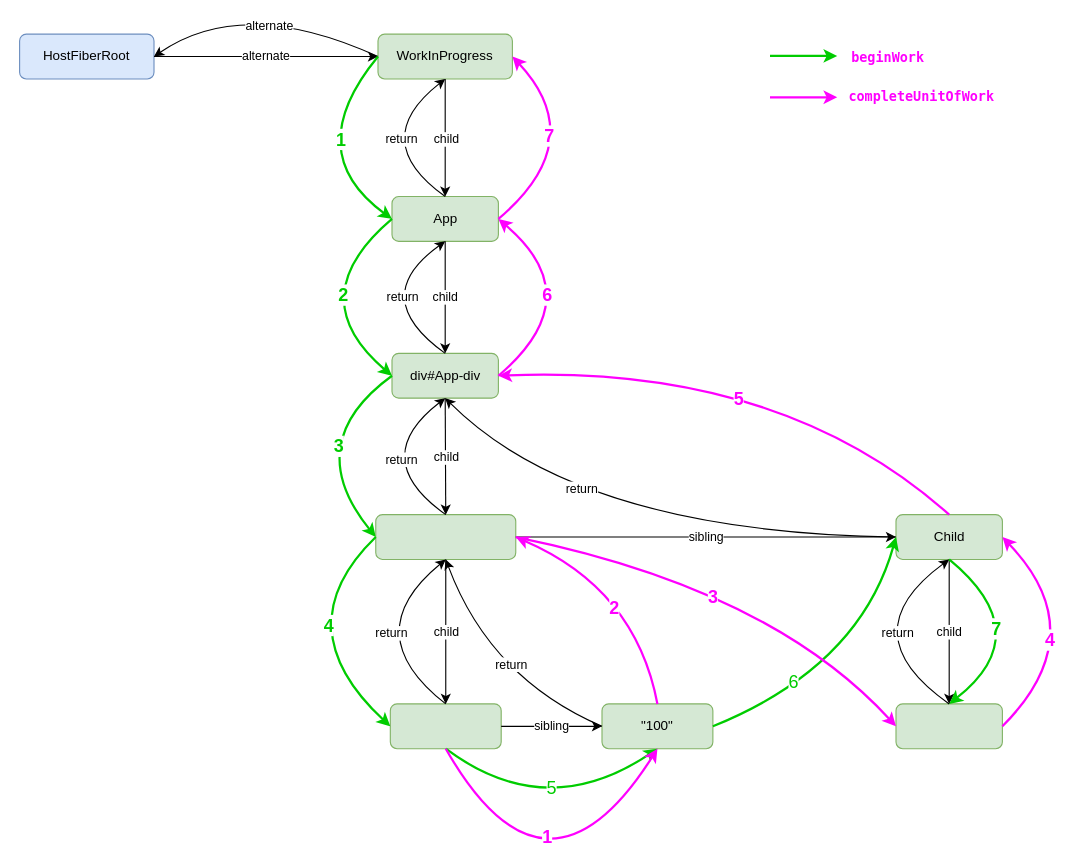
Image size: 1074x868. Some labels were removed from this diagram. Each missing label, with the box of its shape:
"数量": (389, 703, 501, 749)
div#Child-div: (895, 703, 1002, 749)
span#App-div-span: (375, 514, 516, 559)
